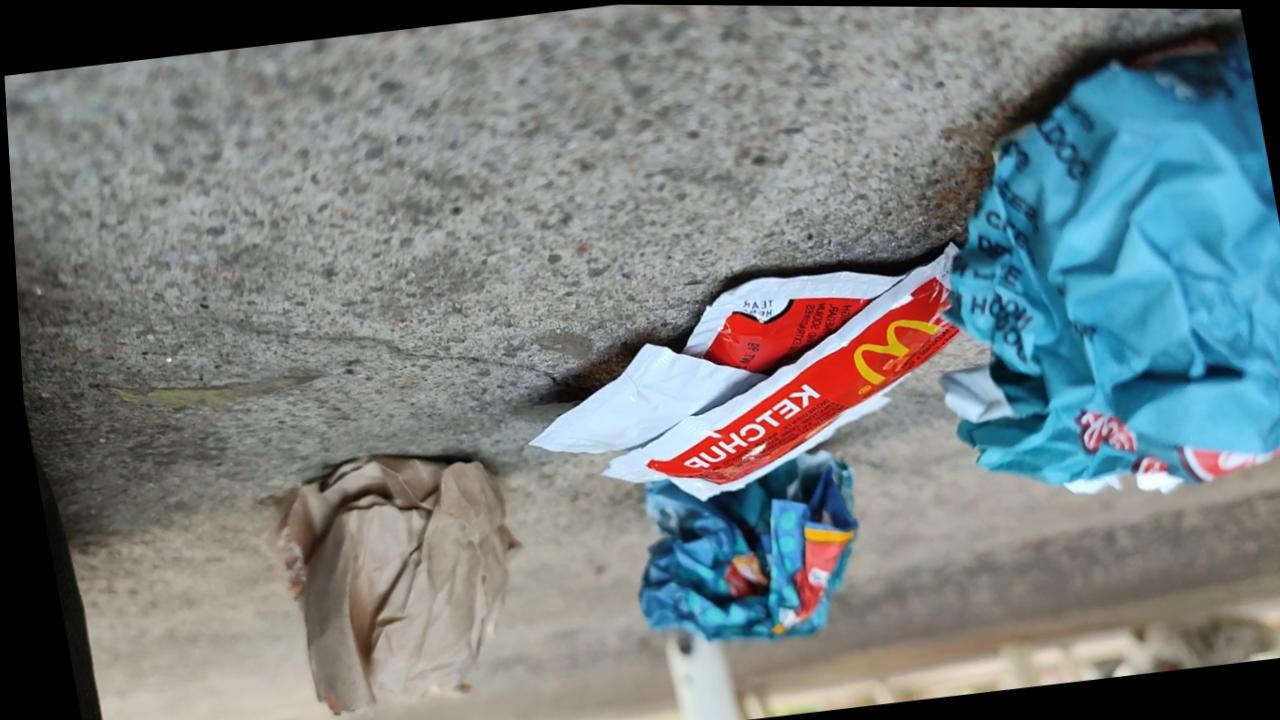paper: (946, 34, 1279, 492), (275, 456, 512, 713), (639, 451, 855, 640)
